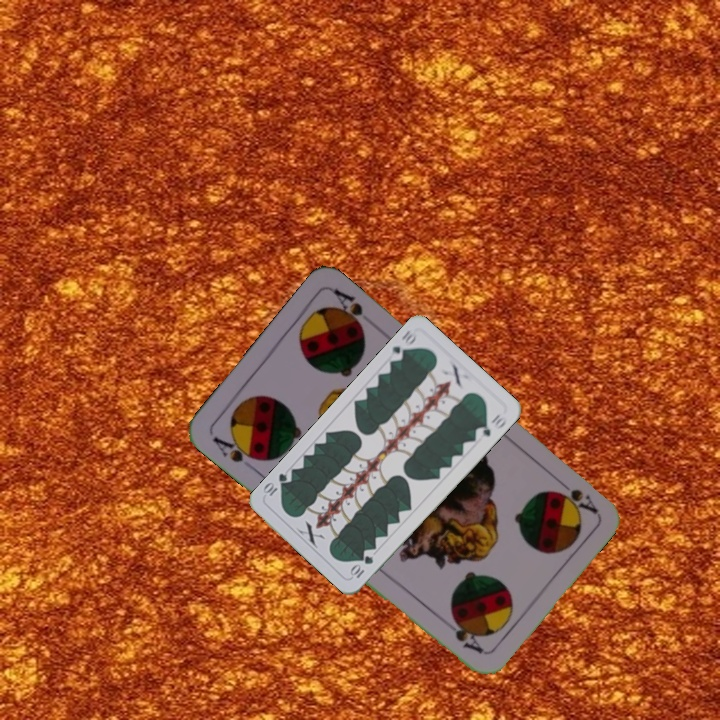G10: (385, 326, 419, 364), (346, 551, 376, 581)
SA: (550, 472, 600, 516), (208, 432, 264, 465)
